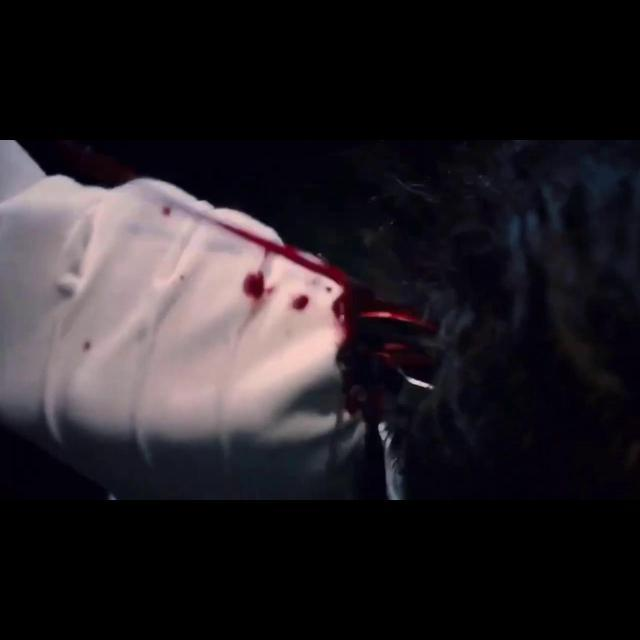blood: (238, 230, 436, 426), (242, 271, 274, 320), (216, 223, 258, 242), (332, 292, 346, 329), (293, 296, 308, 308), (83, 342, 90, 350), (164, 207, 171, 214), (327, 288, 334, 294)
